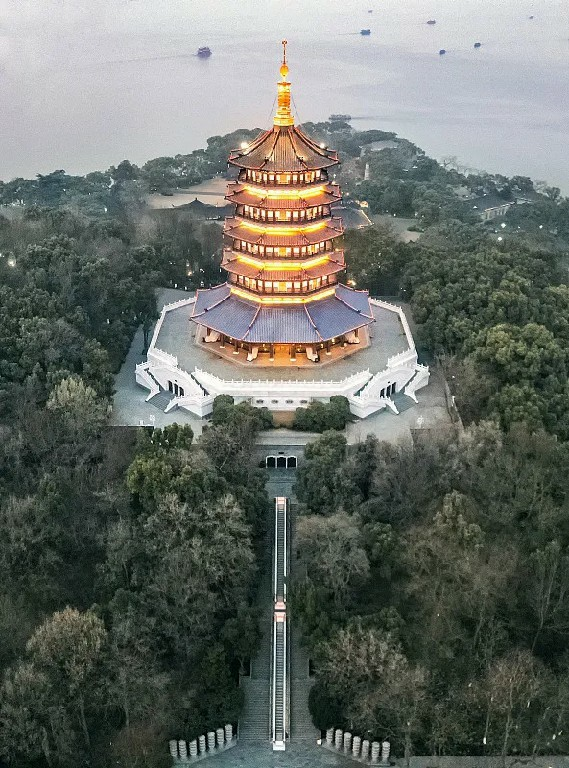Leifeng: (191, 41, 372, 362)
